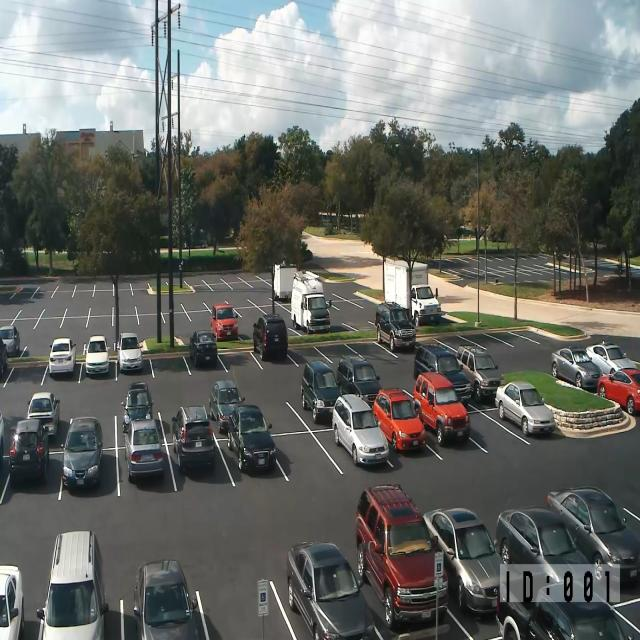car: (356, 483, 448, 630), (494, 507, 607, 605), (546, 486, 640, 584), (496, 578, 640, 640), (286, 540, 375, 640), (423, 507, 503, 615), (36, 530, 109, 639), (133, 558, 209, 640), (413, 372, 471, 446), (332, 393, 389, 466), (527, 600, 627, 639), (413, 343, 472, 403), (373, 387, 426, 452), (494, 381, 556, 436), (227, 404, 276, 472), (60, 416, 103, 489), (171, 405, 216, 473), (456, 344, 504, 403), (300, 360, 342, 424), (123, 417, 164, 481), (9, 418, 49, 482), (337, 355, 382, 408), (550, 346, 602, 391), (374, 301, 416, 352), (596, 368, 640, 415), (208, 379, 245, 433), (586, 340, 637, 376), (0, 564, 24, 639), (121, 381, 154, 434), (252, 313, 288, 361), (26, 391, 60, 439), (410, 284, 441, 327), (610, 596, 640, 640), (116, 332, 143, 373), (83, 335, 110, 376), (210, 302, 238, 341), (189, 330, 217, 368), (49, 337, 76, 376), (292, 270, 323, 296), (0, 325, 20, 356), (0, 338, 7, 377), (0, 409, 4, 470)
